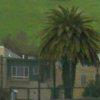Palm tree: (42, 5, 90, 99)
